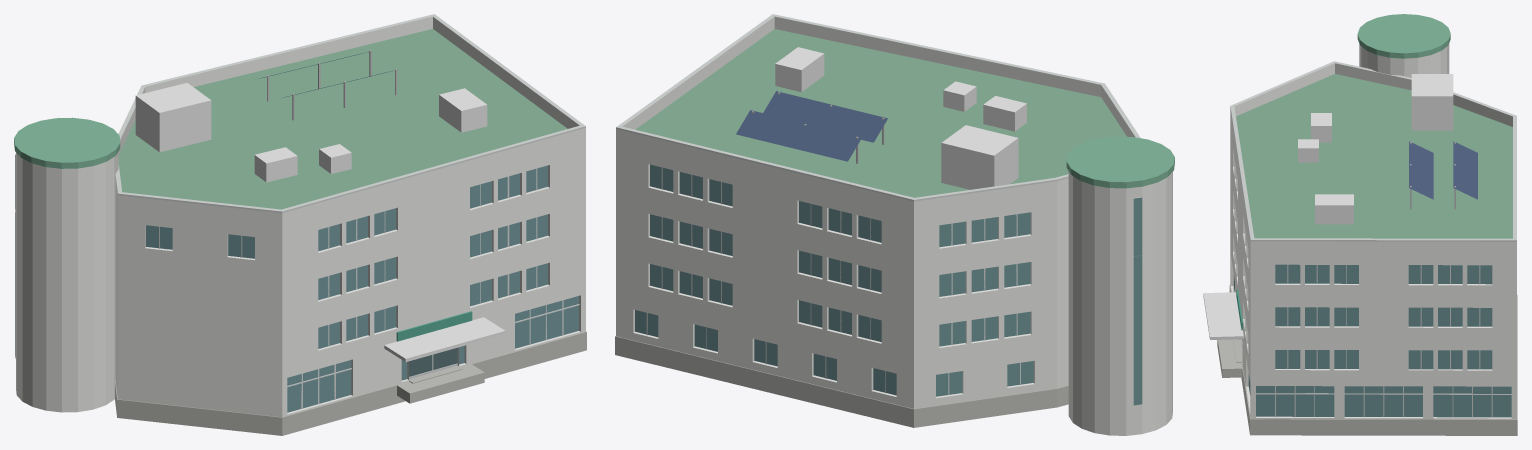
3 renders of one model, left to right at view 1: azimuth 30°, elevation 25°; view 2: azimuth 150°, elevation 25°; view 3: azimuth 270°, elevation 25°, orthographic. The views are drawn at different scales.
Visible parts, largest first — view 1: C3 white stone panel cladding, C3 green waterproof roof, C3 blue green glass, C3 white rooftop plant boxes, C3 granite base, C3 light grey window frames, C3 green cylinder cap, C3 green cafeteria sign band, C3 dark glass doors; view 2: C3 white stone panel cladding, C3 green waterproof roof, C3 blue green glass, C3 granite base, C3 white rooftop plant boxes, C3 dark blue solar panels, C3 light grey window frames, C3 green cylinder cap; view 3: C3 white stone panel cladding, C3 green waterproof roof, C3 blue green glass, C3 white rooftop plant boxes, C3 granite base, C3 light grey window frames, C3 green cylinder cap, C3 dark blue solar panels.
Boxes of the visible parts, x1,y1,x2,y2 form: C3 white stone panel cladding: [15, 16, 585, 417]; C3 green waterproof roof: [118, 29, 567, 209]; C3 blue green glass: [15, 154, 578, 412]; C3 white rooftop plant boxes: [135, 83, 505, 361]; C3 granite base: [115, 331, 586, 435]; C3 light grey window frames: [15, 14, 585, 408]; C3 green cylinder cap: [14, 117, 120, 168]; C3 green cafeteria sign band: [396, 311, 472, 341]; C3 dark glass doors: [409, 348, 457, 376]; C3 white stone panel cladding: [616, 16, 1172, 435]; C3 green waterproof roof: [635, 29, 1126, 197]; C3 blue green glass: [635, 164, 1142, 405]; C3 granite base: [615, 336, 1068, 427]; C3 white rooftop plant boxes: [775, 47, 1026, 189]; C3 dark blue solar panels: [736, 91, 887, 161]; C3 light grey window frames: [616, 14, 1141, 395]; C3 green cylinder cap: [1066, 136, 1174, 188]; C3 white stone panel cladding: [1230, 43, 1516, 419]; C3 green waterproof roof: [1236, 74, 1512, 238]; C3 blue green glass: [1234, 264, 1511, 417]; C3 white rooftop plant boxes: [1203, 74, 1453, 339]; C3 granite base: [1217, 285, 1517, 435]; C3 light grey window frames: [1230, 61, 1516, 417]; C3 green cylinder cap: [1357, 14, 1450, 58]; C3 dark blue solar panels: [1409, 141, 1477, 199].
Bounding box in the file's own units: 36.92 × 18.5 × 24.07.
